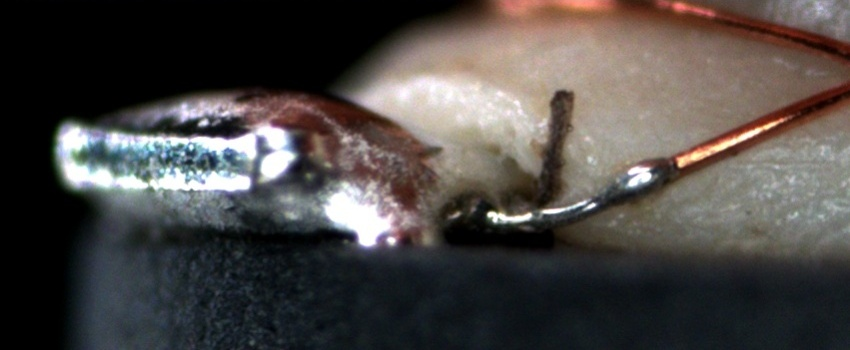DL: (742, 141, 849, 183)
TB: (609, 147, 689, 208)
TS: (484, 157, 676, 229)
TTCW: (483, 133, 732, 234)
